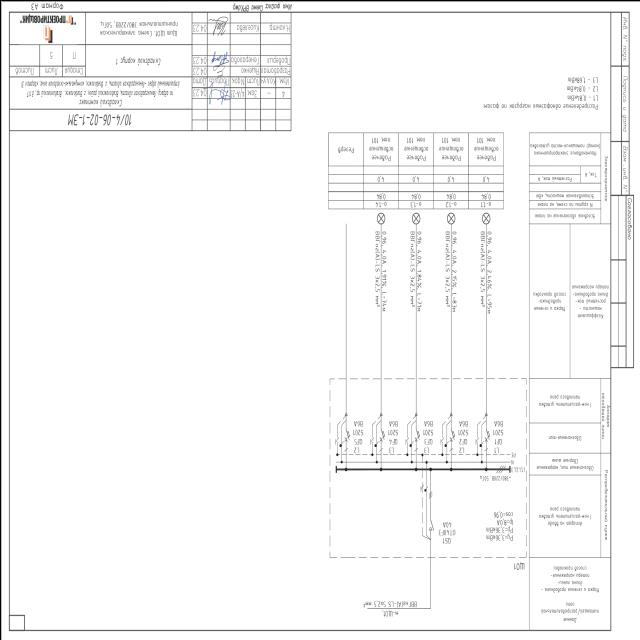-: (436, 519, 456, 535), (420, 418, 434, 436), (384, 418, 398, 436), (490, 418, 504, 436), (351, 418, 365, 435), (456, 418, 470, 434), (513, 560, 525, 572)
QF: (412, 428, 420, 452), (482, 427, 490, 451), (342, 427, 350, 451), (377, 427, 384, 451), (448, 427, 454, 451)
QW: (426, 488, 434, 530)
